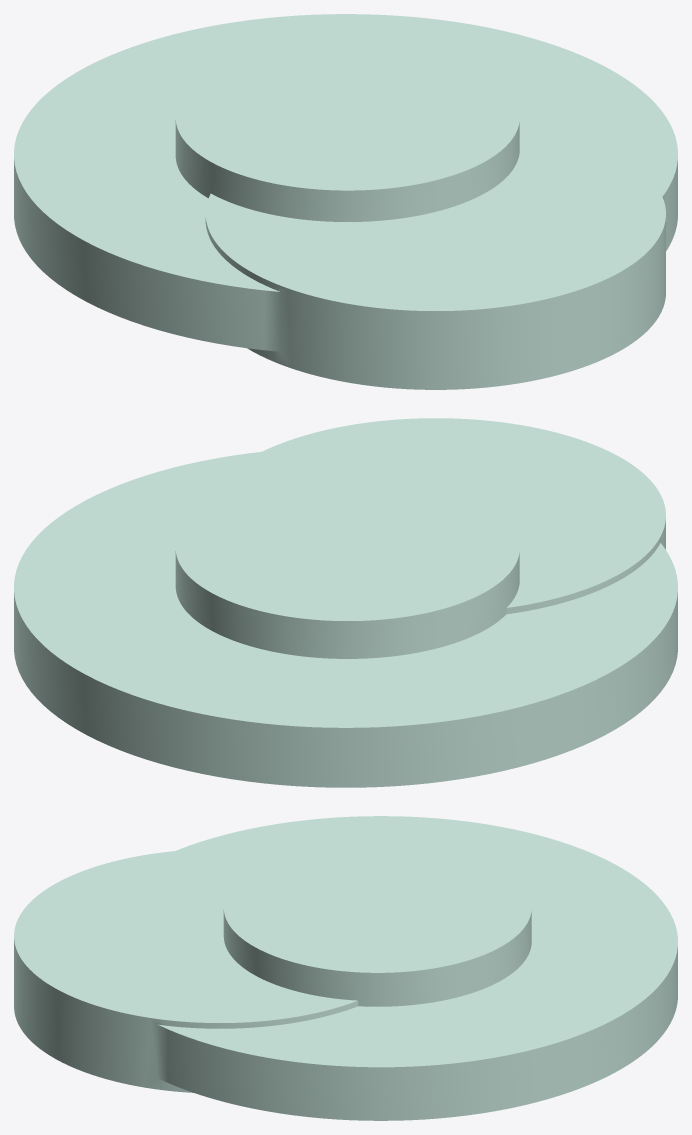
3 views of the same model, one above another, from view 1: azimuth 30°, elevation 25°; view 2: azimuth 150°, elevation 25°; view 3: azimuth 270°, elevation 25° (orthographic). The views are drawn at different scales.
Parts seen in each view (by area): view 1: Renderer Node; view 2: Renderer Node; view 3: Renderer Node.
Boxes of the visible parts, x1,y1,x2,y2 form: Renderer Node: [14, 14, 677, 389]; Renderer Node: [14, 418, 677, 787]; Renderer Node: [14, 816, 677, 1120].
Size of the model in its own units: 1.49 by 0.2734 by 1.67.
